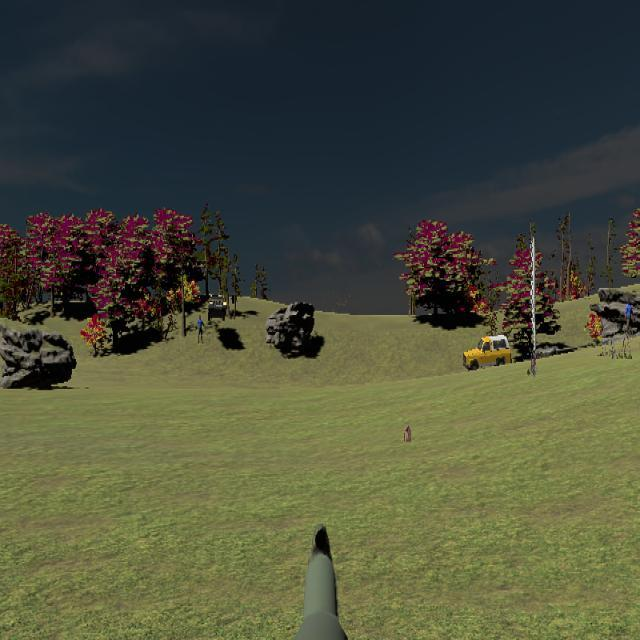car: (462, 335, 511, 371)
